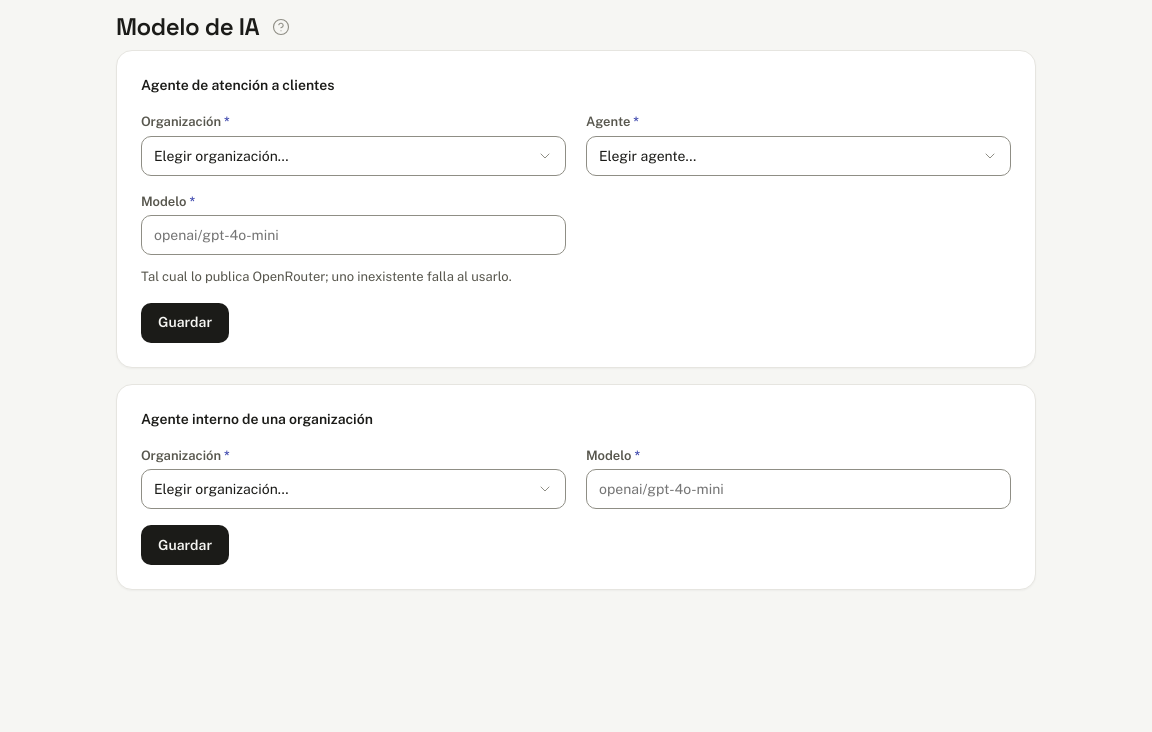
Test: AgentModelPage (B-05) › elige organización y agente, y cambia el modelo de ese agente
The image size is (1152, 732).
expect the dropdown labelled "Agente" is disabled: met, box [586, 136, 1011, 176]
Click the dropdown labelled "Organización" below "Agente de atención a clientes". click: x=354, y=156
box: [141, 136, 566, 176]
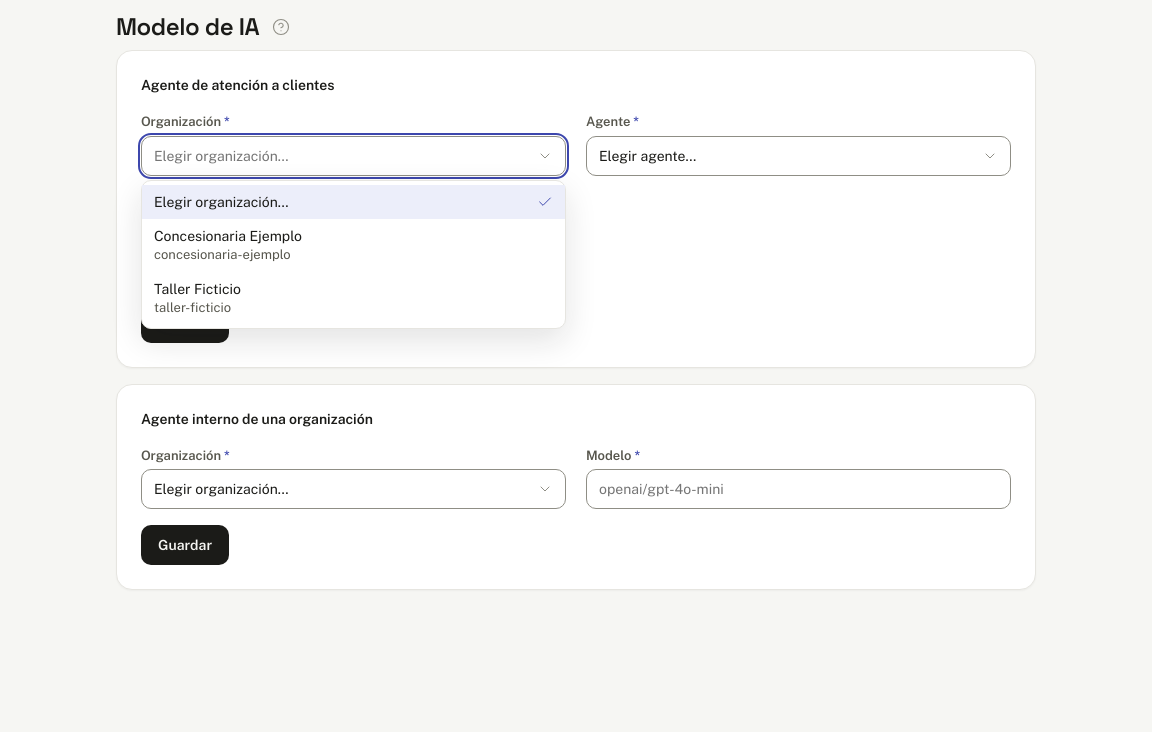
Click the option "Concesionaria Ejemplo". click: x=228, y=245
box: [154, 228, 302, 262]
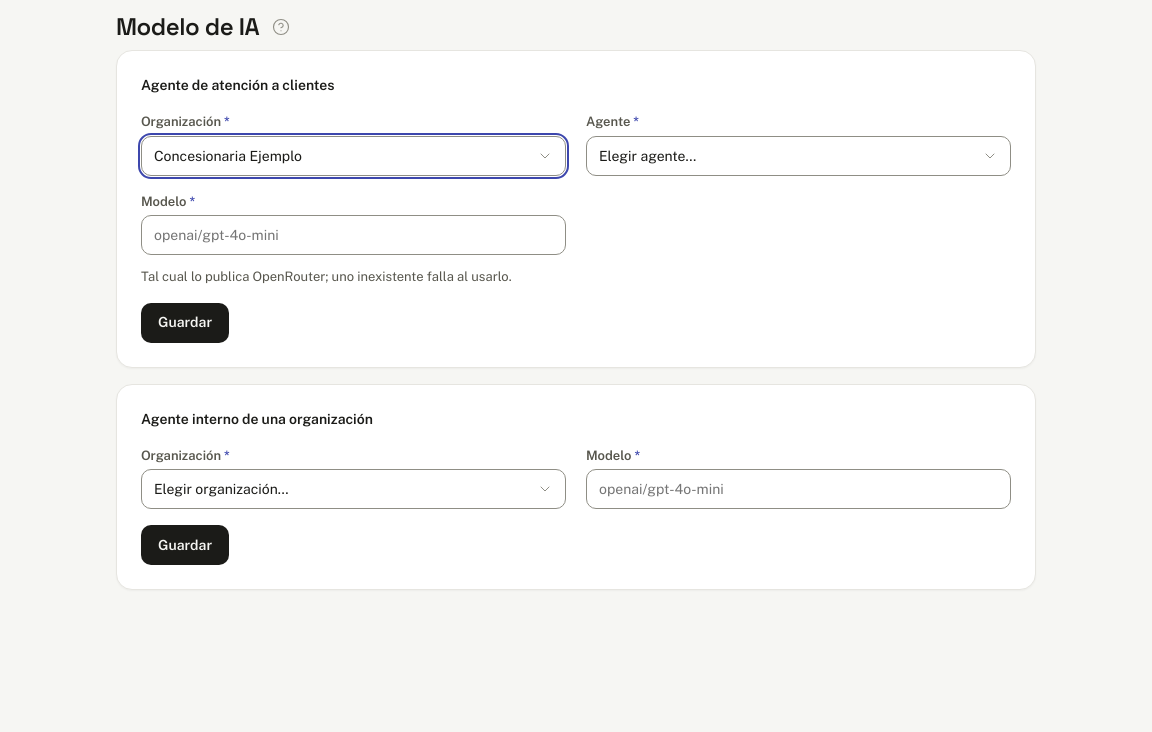
Click the dropdown labelled "Agente". click: x=798, y=156
box: [586, 136, 1011, 176]
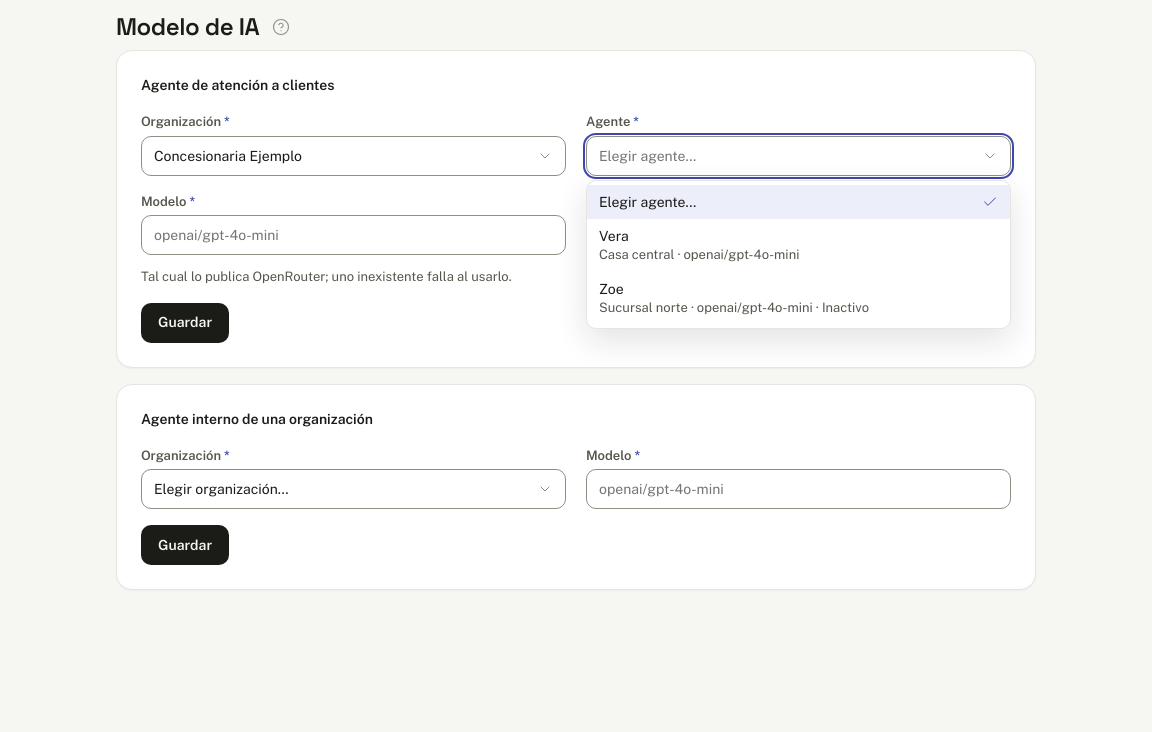
expect the text "Sucursal norte · openai/gpt-4o-mini · Inactivo" is shown: met, box [599, 299, 869, 316]
Click the option "Vera Casa central · openai/gpt-4o-mini". click: x=699, y=245
box: [599, 228, 799, 262]
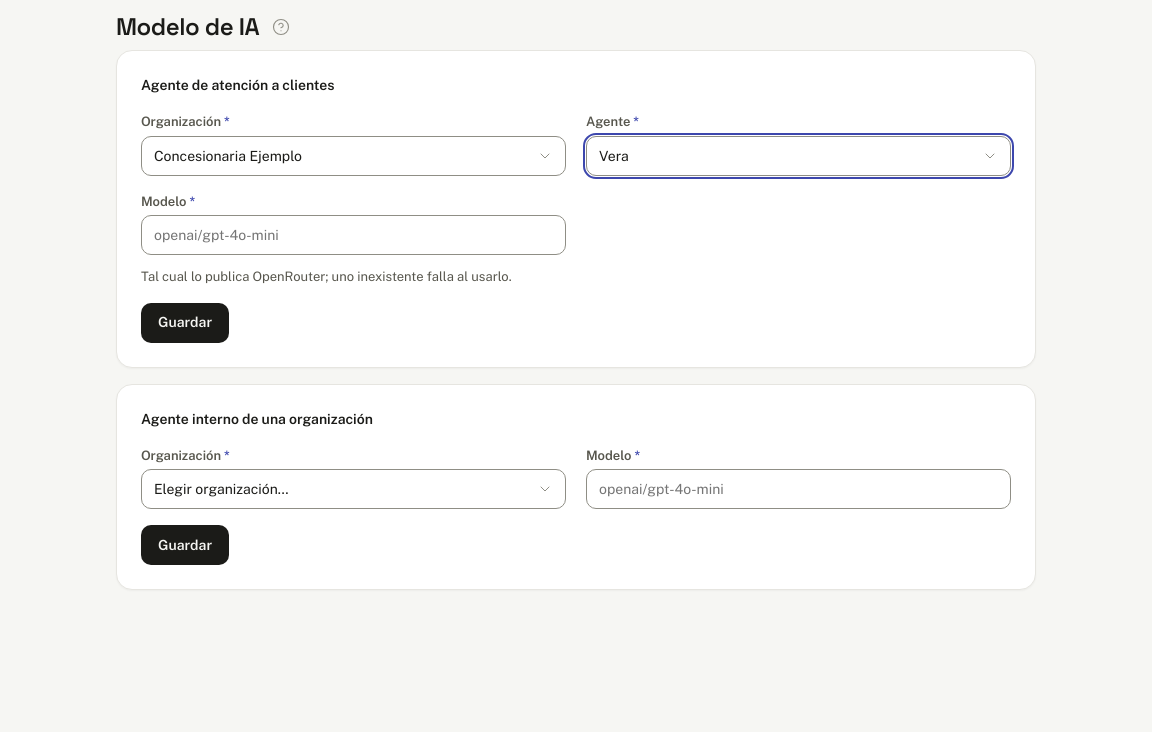
Type " anthropic/claude-sonnet-4 " into the field labelled "Modelo" below "Agente de atención a clientes". click: x=354, y=235
box: [141, 215, 566, 255]
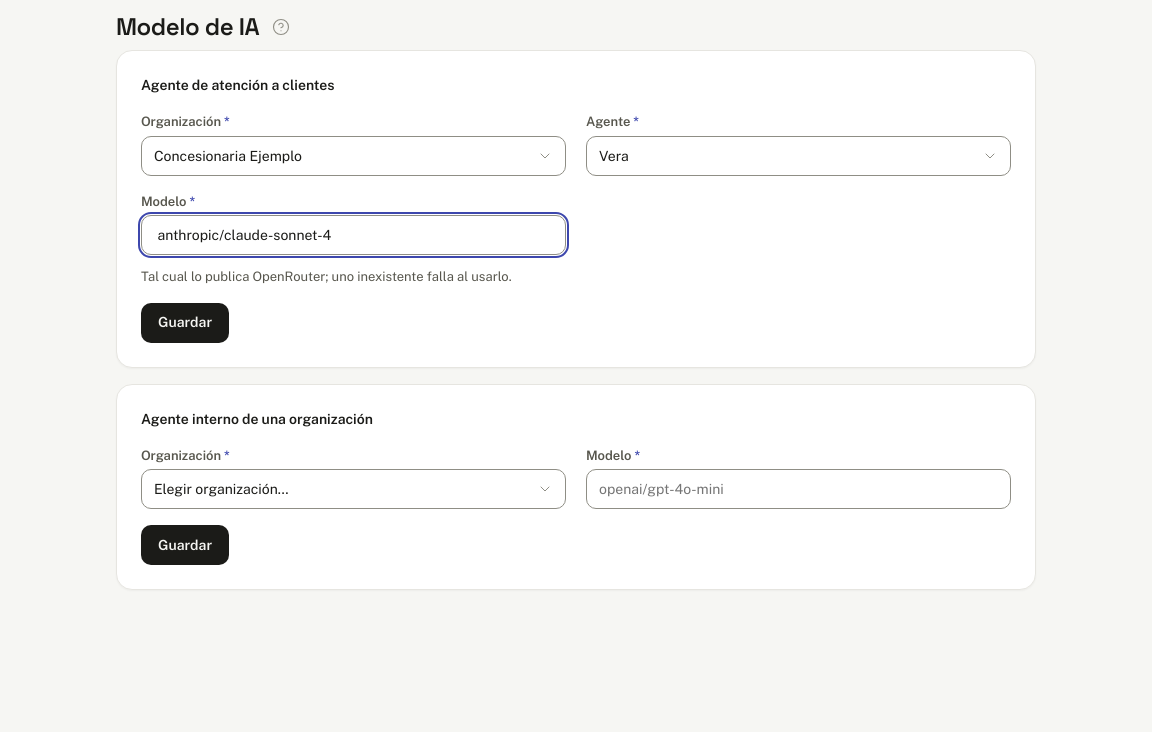
Click the button "Guardar" below "Agente de atención a clientes". click: x=185, y=322
box: [141, 302, 229, 342]
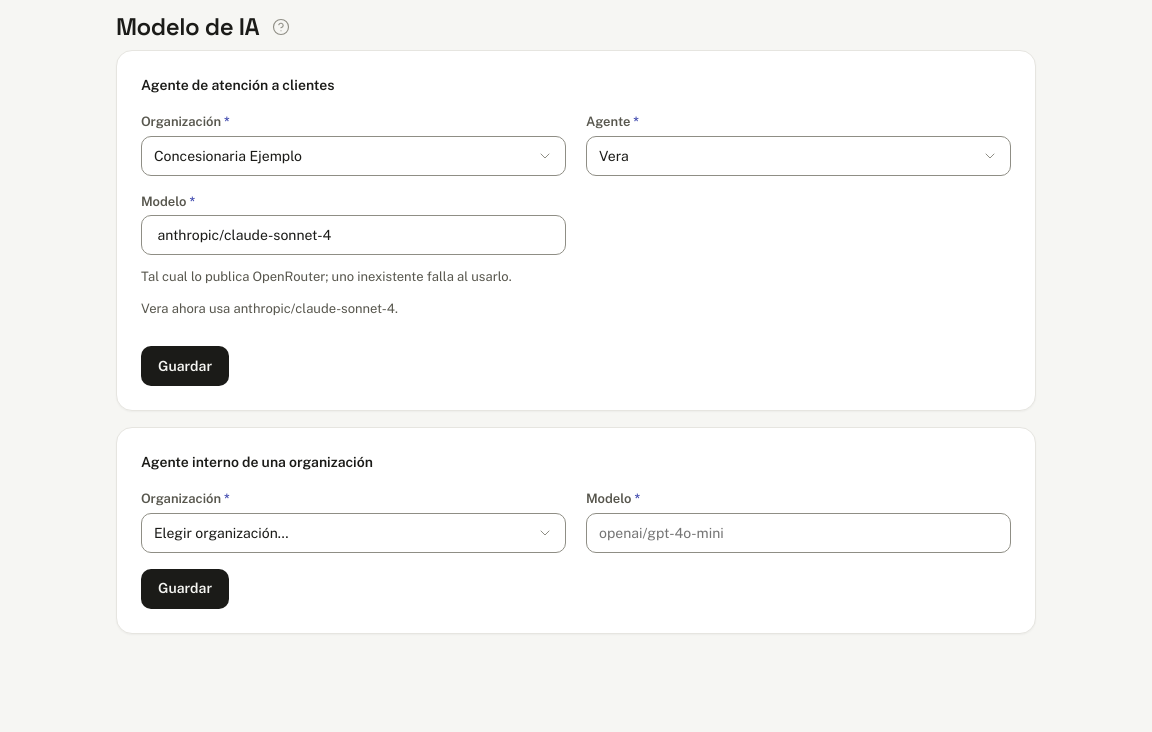
expect the text "Vera ahora usa anthropic/claude-sonnet-4." is shown: met, box [141, 300, 398, 316]
